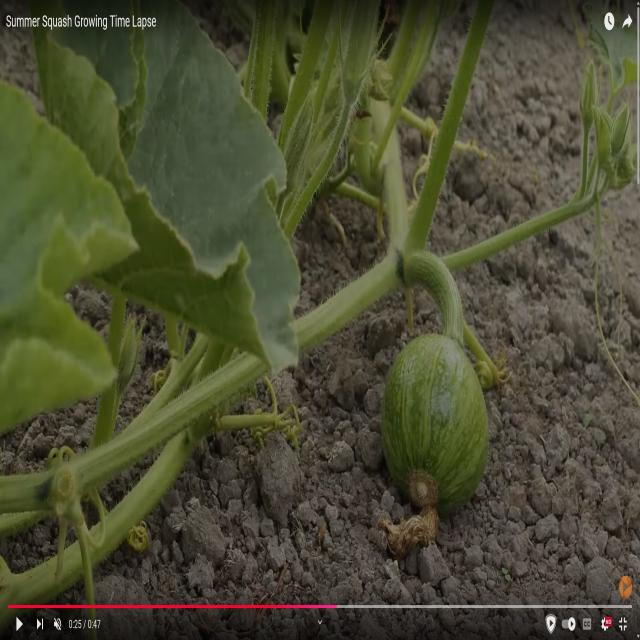squash: (375, 329, 488, 522)
